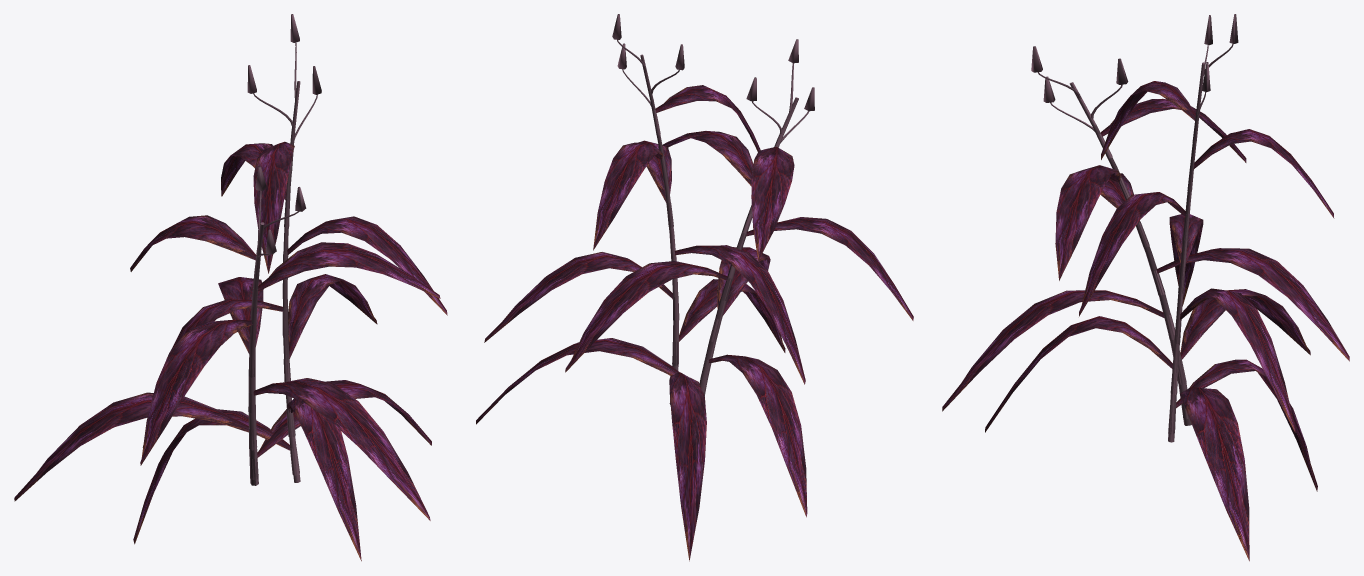
Rendered from finegrass_00.glb.
3 views of the same model, side by side, from view 1: azimuth 30°, elevation 25°; view 2: azimuth 150°, elevation 25°; view 3: azimuth 270°, elevation 25° (orthographic). The views are drawn at different scales.
Visible parts, largest first — view 1: export; view 2: export; view 3: export.
Boxes of the visible parts, x1,y1,x2,y2 form: export: [14, 14, 447, 561]; export: [476, 14, 913, 561]; export: [942, 14, 1349, 561].
Bounding box in the file's own units: 1 × 1.31 × 0.906.
Materials: 2 (2 with a texture image).
